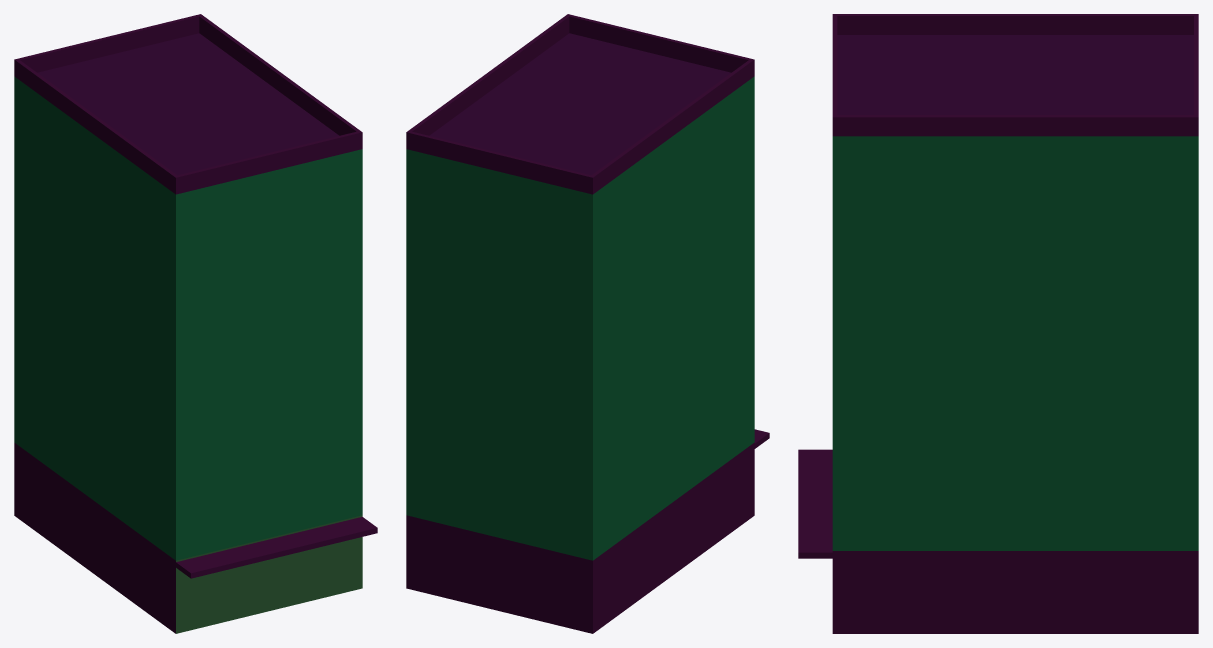
Rendered from fringe_b.glb.
3 renders of one model, left to right at view 1: azimuth 30°, elevation 25°; view 2: azimuth 150°, elevation 25°; view 3: azimuth 270°, elevation 25°, orthographic. The views are drawn at different scales.
Parts seen in each view (by area): view 1: fringe_b; view 2: fringe_b; view 3: fringe_b.
Boxes of the visible parts, x1,y1,x2,y2 form: fringe_b: (14,14,377,633); fringe_b: (406,14,769,633); fringe_b: (798,14,1198,633).
Size of the model in its own units: 12.8 by 29.9 by 21.
